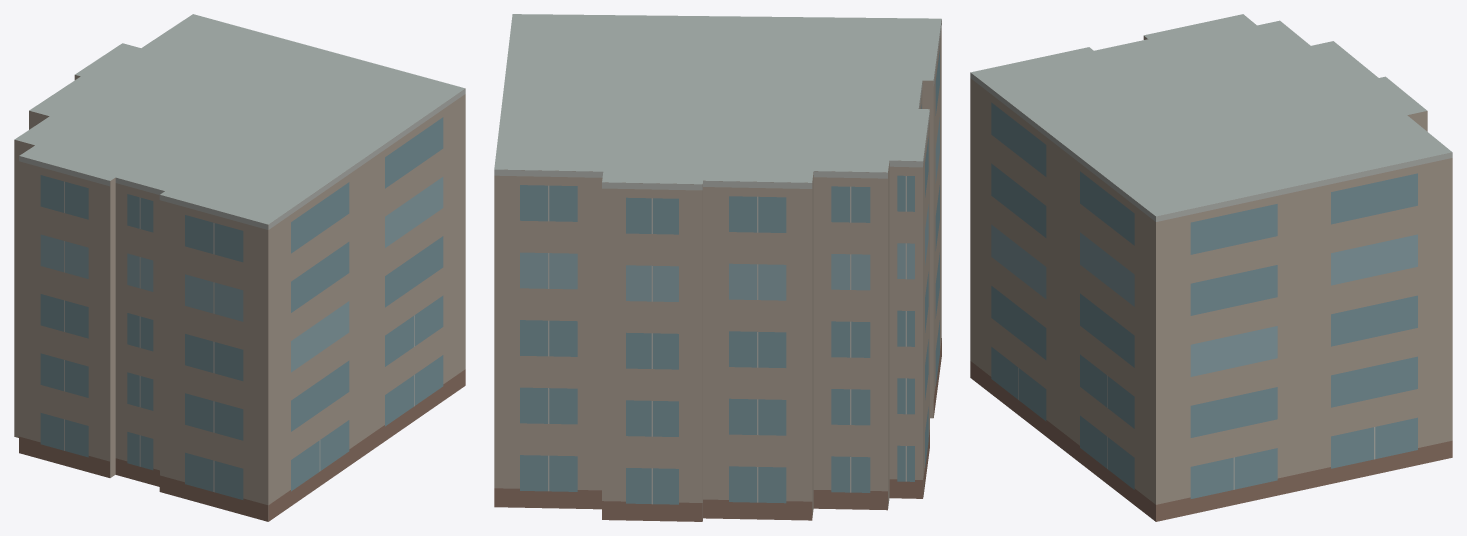
File: survey-upis-32668175.glb
3 renders of one model, left to right at view 1: azimuth 30°, elevation 25°; view 2: azimuth 150°, elevation 25°; view 3: azimuth 270°, elevation 25°, orthographic. The views are drawn at different scales.
Parts seen in each view (by area): view 1: survey-upis-32668175.tmp; view 2: survey-upis-32668175.tmp; view 3: survey-upis-32668175.tmp.
Part boxes in pixels (x1,y1,x2,y2): survey-upis-32668175.tmp: [14, 14, 465, 521]; survey-upis-32668175.tmp: [494, 14, 941, 521]; survey-upis-32668175.tmp: [970, 14, 1452, 521].
Bounding box in the file's own units: 18.93 × 13.3 × 19.04.
